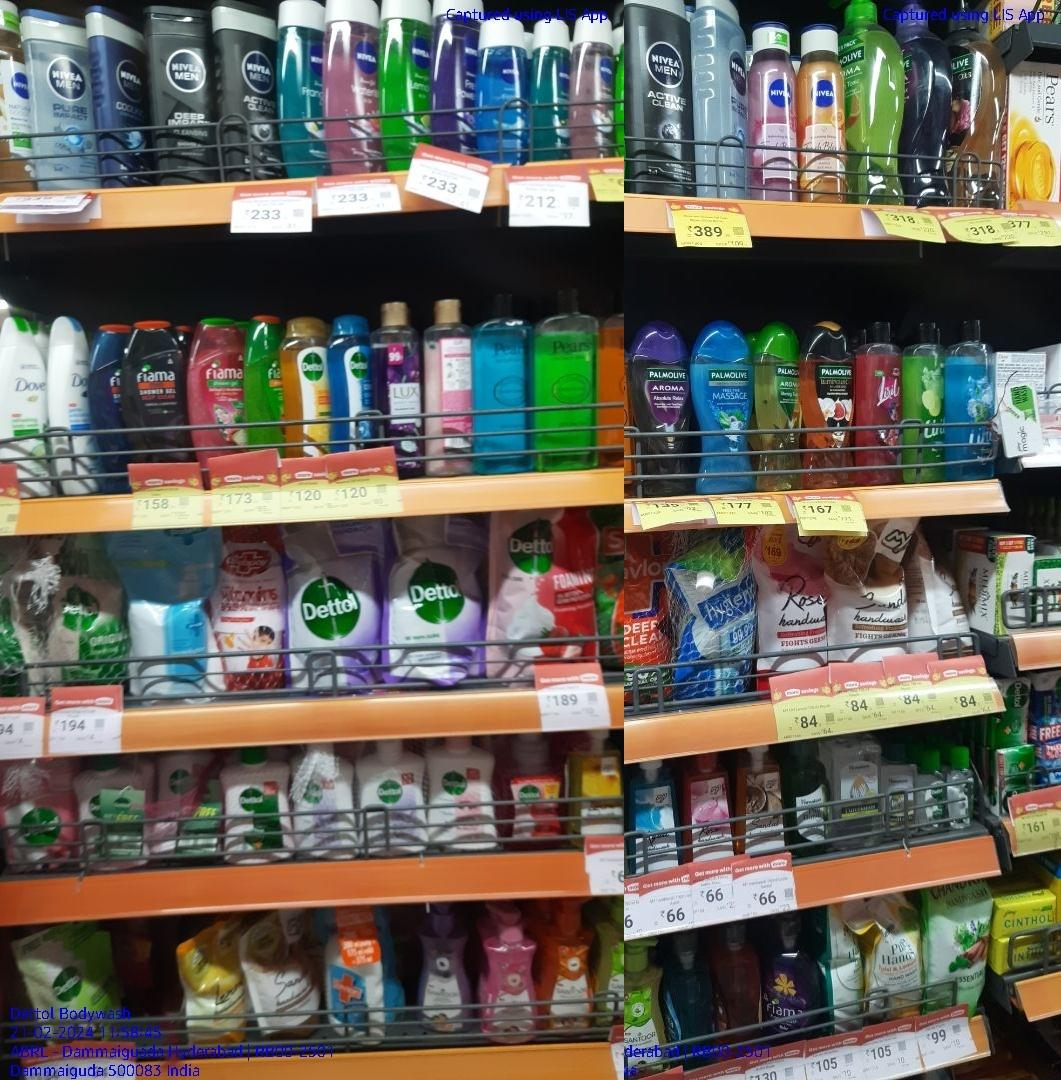Palmolive_Aroma_Moments_Feel_The_Massage_Shower_Gel_250ML: (689, 318, 751, 493)
Palmolive_Aroma_Relax_250ML: (629, 322, 687, 495)
Pears_Pure_Glycerin_and_Lemon_Flower_Extracts_Body_Wash_250ML: (529, 291, 595, 466)
Pears_Pure_Glycerin_and_Mint_Extracts_Body_Wash_250ML: (470, 296, 526, 470)
